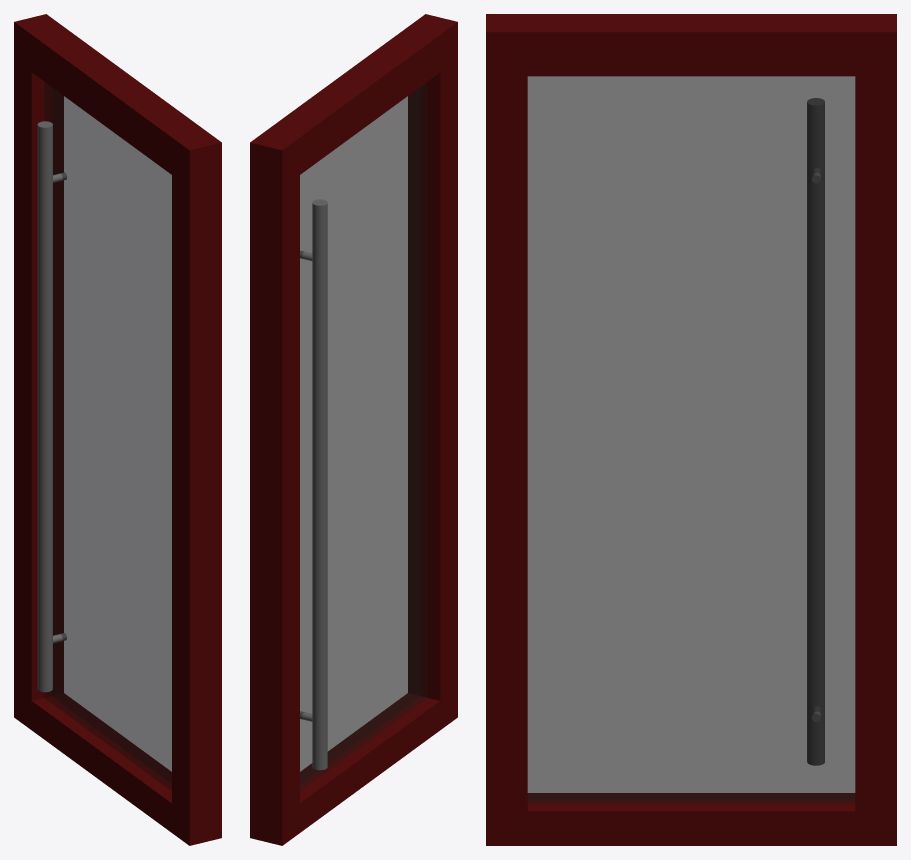
File: tabakladenTuer.dae
The picture shows the model from 3 angles, left to right: view 1: azimuth 30°, elevation 25°; view 2: azimuth 150°, elevation 25°; view 3: azimuth 270°, elevation 25°; orthographic projection. The views are drawn at different scales.
Parts seen in each view (by area): view 1: door1, pCube1, pCylinder1; view 2: door1, pCube1, pCylinder1; view 3: pCube1, door1, pCylinder1.
Part boxes in pixels (x1,y1,x2,y2): door1: [14, 14, 221, 845]; pCube1: [44, 82, 171, 790]; pCylinder1: [37, 121, 52, 692]; door1: [250, 14, 457, 845]; pCube1: [300, 82, 427, 790]; pCylinder1: [312, 199, 327, 770]; pCube1: [527, 76, 855, 803]; door1: [486, 14, 896, 845]; pCylinder1: [807, 98, 824, 765].
Bounding box in the file's own units: 0.1265 × 1.99 × 0.9108.
